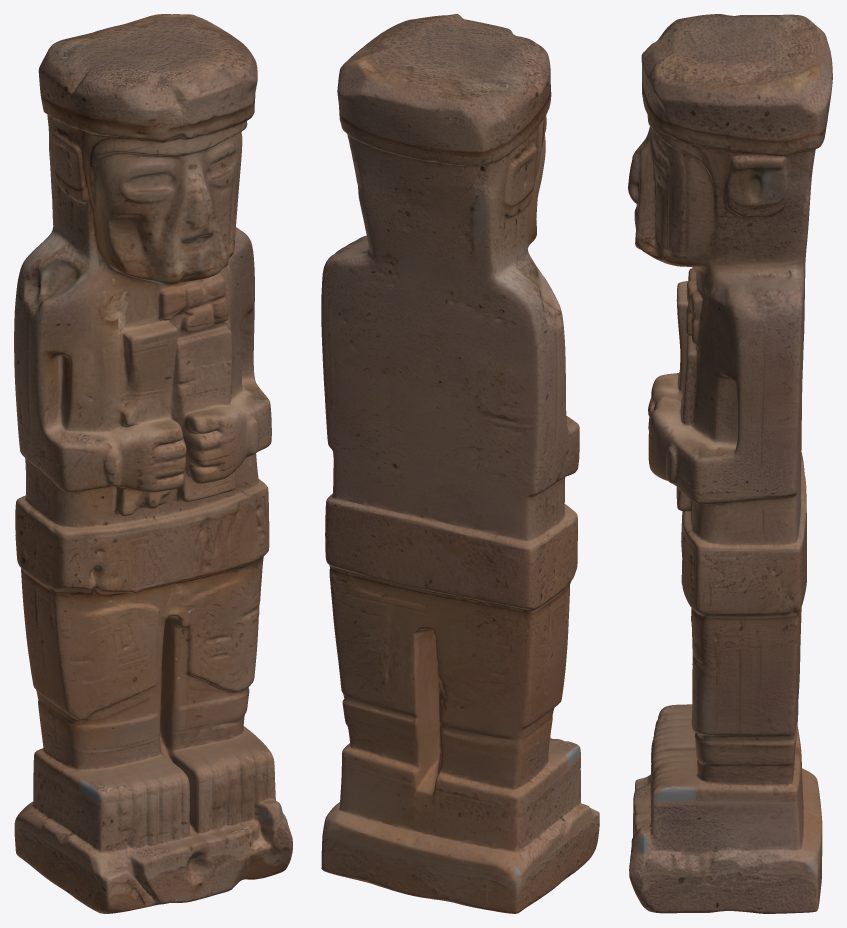
Rendered from Monolito.glb.
3 renders of one model, left to right at view 1: azimuth 30°, elevation 25°; view 2: azimuth 150°, elevation 25°; view 3: azimuth 270°, elevation 25°, orthographic.
Parts seen in each view (by area): view 1: tripo_node_d91ad6d1-517f-4c34-8586-08a8a47c3cf1; view 2: tripo_node_d91ad6d1-517f-4c34-8586-08a8a47c3cf1; view 3: tripo_node_d91ad6d1-517f-4c34-8586-08a8a47c3cf1.
Part boxes in pixels (x1,y1,x2,y2): tripo_node_d91ad6d1-517f-4c34-8586-08a8a47c3cf1: (14,14,292,913); tripo_node_d91ad6d1-517f-4c34-8586-08a8a47c3cf1: (321,14,599,913); tripo_node_d91ad6d1-517f-4c34-8586-08a8a47c3cf1: (628,14,832,913).
Bounding box in the file's own units: 0.2802 × 0.9999 × 0.2239.
Materials: 1 (1 with a texture image).
